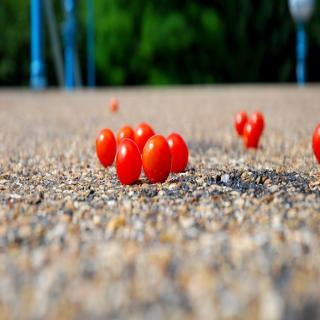tomato: (143, 134, 172, 182), (114, 137, 139, 182), (165, 132, 189, 176), (95, 127, 116, 166), (136, 122, 155, 150), (116, 124, 135, 151), (242, 119, 259, 149), (312, 121, 320, 162), (235, 111, 247, 134), (250, 112, 262, 134)
